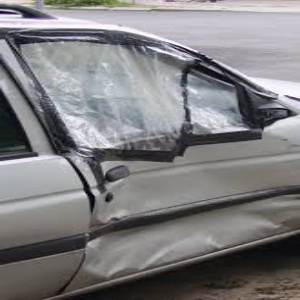door: (56, 143, 300, 283)
